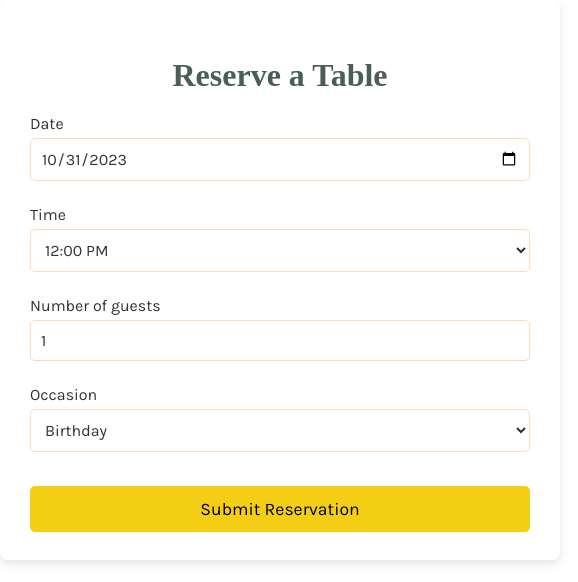
Scenario: BookingForm JavaScript Validation › should display error for invalid date selection
This screenshot has width=578, height=582.
Note: Set an invalid date (past date)
Type "2022-01-01" into the date field labelled "Date".
click(280, 159); type("2022-01-01")  # box [30,138,530,180]
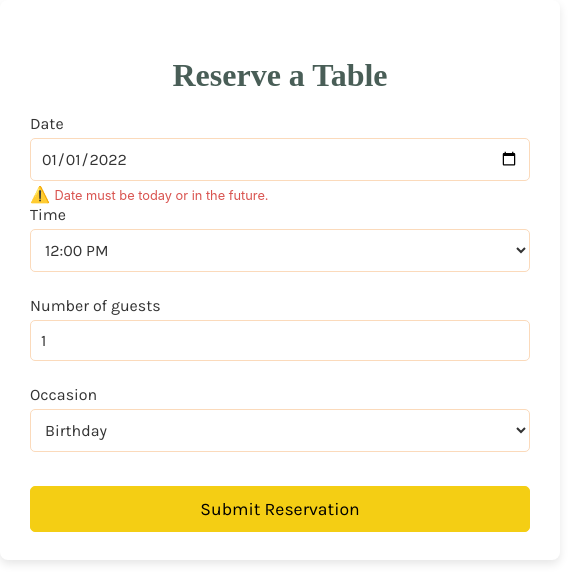
Result: the text "Date must be today or in the future." is shown at [54,188,269,202]
